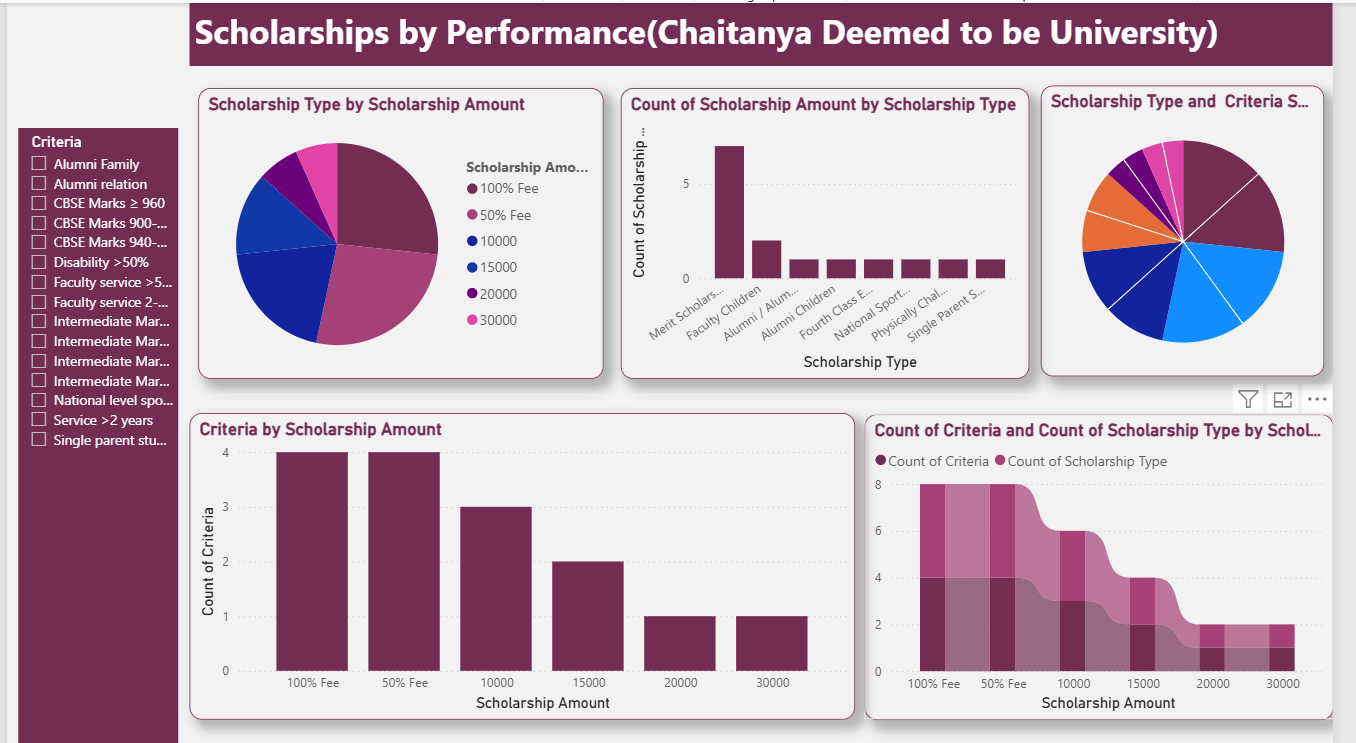

The dashboard page shown, as its layout file describes it:
{"tool":"powerbi","page":{"name":"Scholarships","canvas":[1280,720],"ordinal":2},"visuals":[{"type":"textbox","box":[176.7,0,1103.5,60.9],"z":0},{"type":"slicer","fields":{"Values":["Scholarships.Criteria"]},"box":[10.5,120.5,154.5,599.2],"z":1000},{"type":"image","box":[22.1,0,143,120.9],"z":2000},{"type":"columnChart","title":"Criteria by Scholarship Amount","fields":{"Y":["CountNonNull(Scholarships.Criteria)"],"Category":["Scholarships.Scholarship Amount"]},"box":[176.7,395.5,642.5,296.1],"z":2001},{"type":"ribbonChart","fields":{"Category":["Scholarships.Scholarship Amount"],"Y":["CountNonNull(Scholarships.Criteria)","CountNonNull(Scholarships.Scholarship Type)"]},"box":[827.4,396.7,452.9,294.9],"z":2002},{"type":"pieChart","title":"Scholarship Type by Scholarship Amount","fields":{"Category":["Scholarships.Scholarship Amount"],"Y":["CountNonNull(Scholarships.Scholarship Type)"]},"box":[184.9,81.9,390.9,280.9],"z":2003},{"type":"lineStackedColumnComboChart","fields":{"Category":["Scholarships.Scholarship Type"],"Y":["CountNonNull(Scholarships.Scholarship Amount)"]},"box":[592.1,81.9,394.4,280.9],"z":2004},{"type":"pieChart","title":"Scholarship Type and  Criteria Scholarship Amount","fields":{"Y":["CountNonNull(Scholarships.Scholarship Type)","CountNonNull(Scholarships.Criteria)"],"Category":["Scholarships.Scholarship Amount"]},"box":[998.2,79.6,273.8,280.9],"z":2005}]}

Visuals, with their boxes in screenshot pixels (x1, y1, x2, y2), scaled from the page's 1280x720 canvas onto the 1356x743 screenshot:
textbox: (187, 0, 1355, 63)
slicer - Scholarships.Criteria: (11, 124, 175, 742)
image: (23, 0, 175, 125)
"Criteria by Scholarship Amount" columnChart: (187, 408, 868, 714)
ribbonChart - Scholarships.Scholarship Amount x CountNonNull(Scholarships.Criteria): (877, 409, 1355, 714)
"Scholarship Type by Scholarship Amount" pieChart: (196, 85, 610, 374)
lineStackedColumnComboChart - Scholarships.Scholarship Type x CountNonNull(Scholarships.Scholarship Amount): (627, 85, 1045, 374)
"Scholarship Type and  Criteria Scholarship Amount" pieChart: (1057, 82, 1348, 372)
